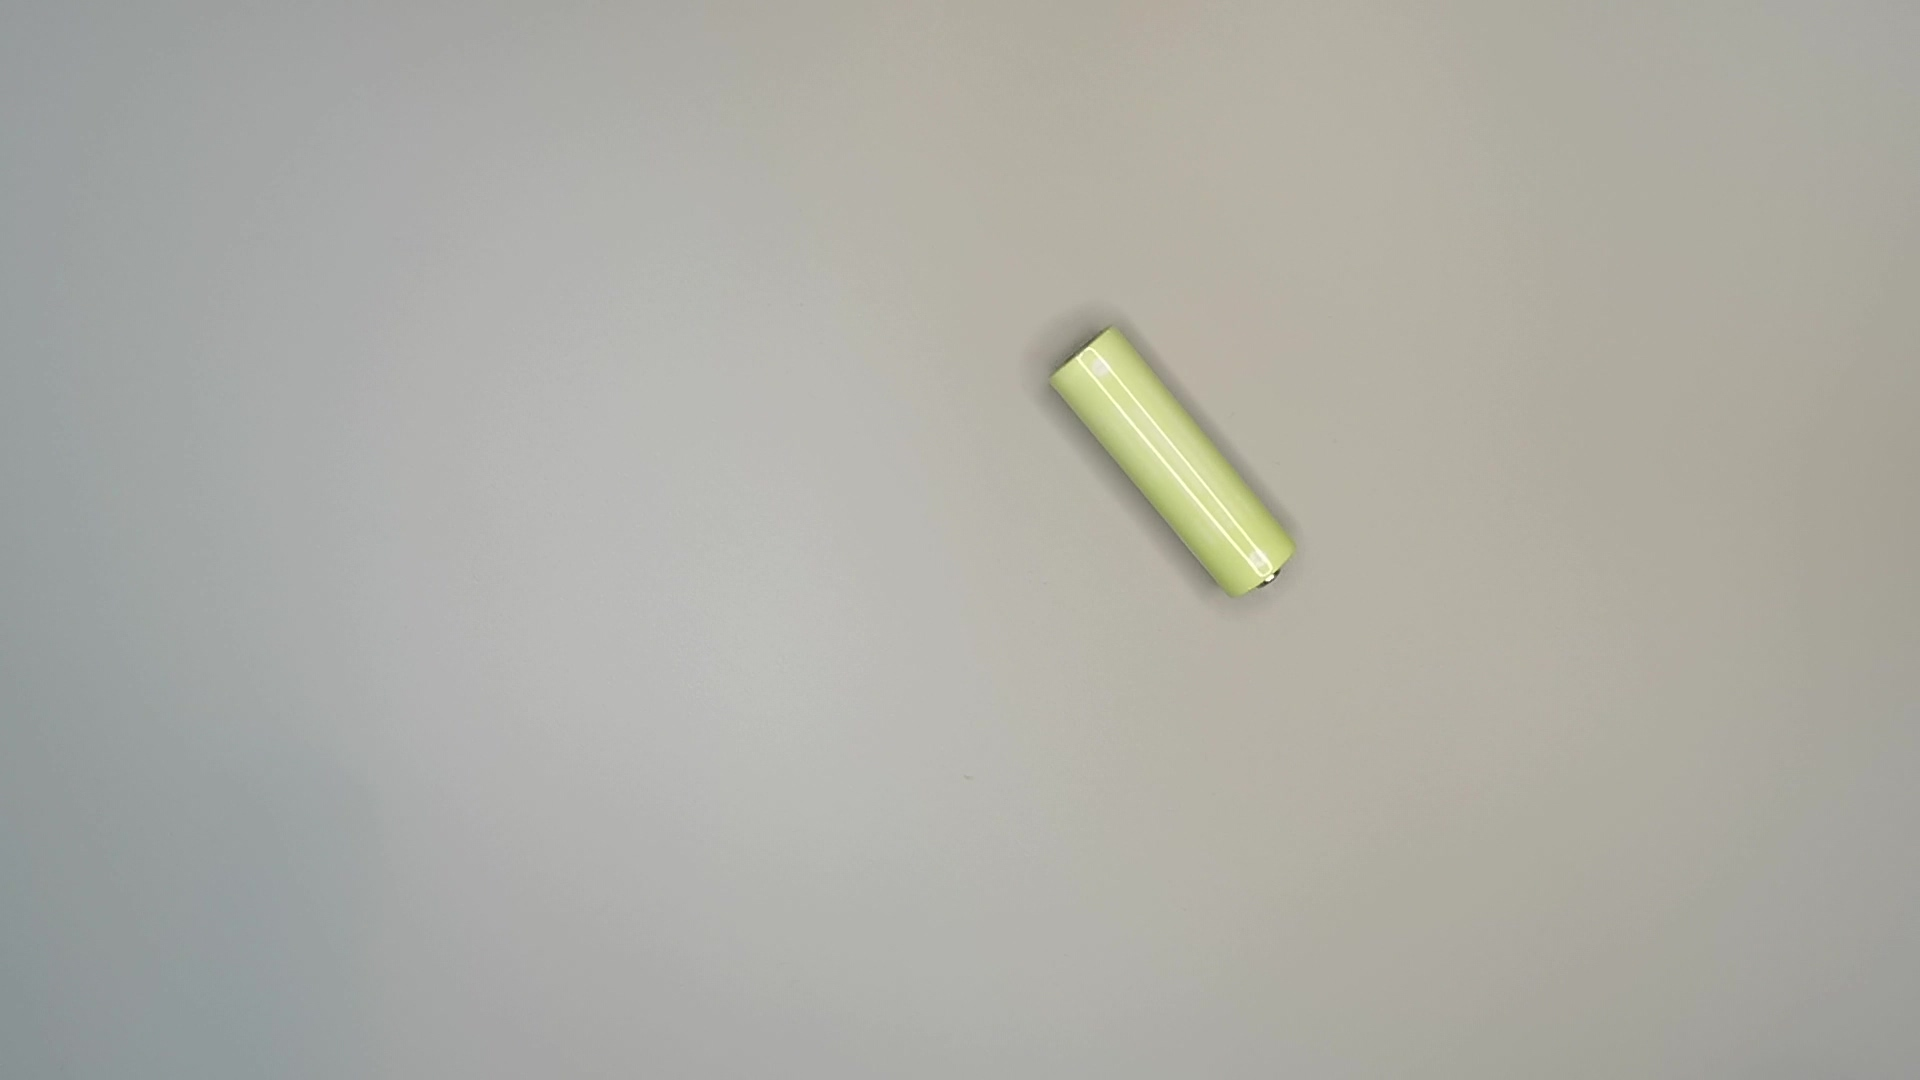battery: (1034, 313, 1305, 613)
